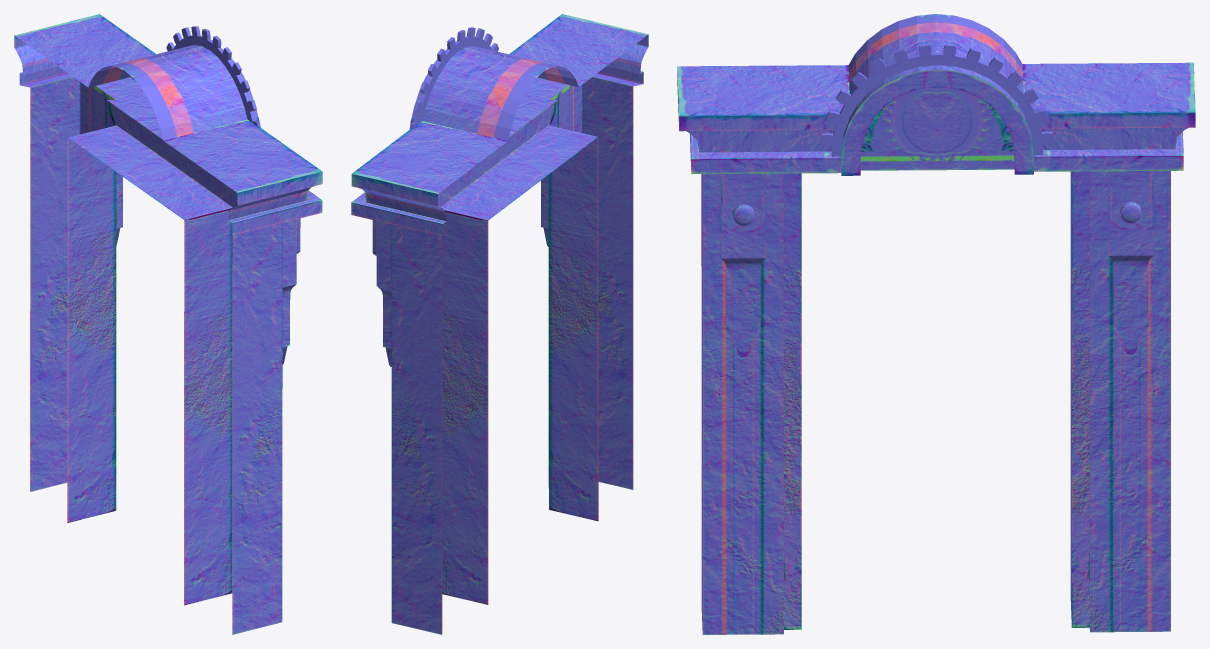
Rendered from doordeco_low.002 Instance.fbx.
3 renders of one model, left to right at view 1: azimuth 30°, elevation 25°; view 2: azimuth 150°, elevation 25°; view 3: azimuth 270°, elevation 25°, orthographic. The views are drawn at different scales.
Visible parts, largest first — view 1: doordeco_low_002; view 2: doordeco_low_002; view 3: doordeco_low_002.
Part boxes in pixels (x1=…): doordeco_low_002: x1=14, y1=14, x2=322, y2=634; doordeco_low_002: x1=351, y1=14, x2=648, y2=634; doordeco_low_002: x1=677, y1=14, x2=1195, y2=634.
Bounding box in the file's own units: 155 × 753 × 584.
